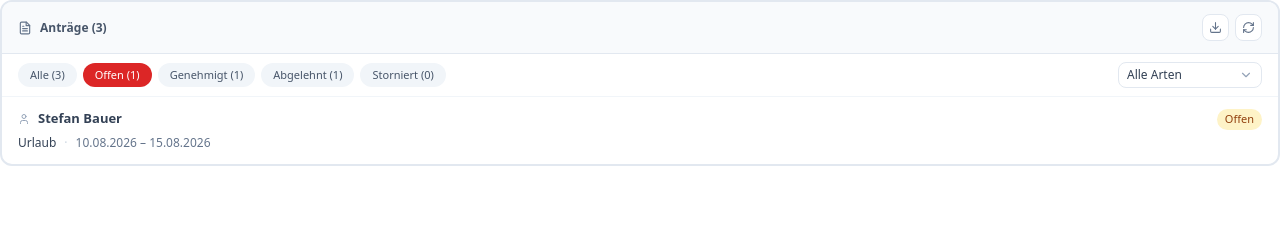
Test: LeaveRequestsList — status tabs › filters visible rows + tab counts when an Art is selected
Expected: the text "Stefan Bauer" is shown, [38,109,122,128]
Expected: the button "Alle (3)" is shown, [18,63,77,87]
# Filter to Krankenstand
Click the button with aria-label "Art filtern". click: (1190, 75)
box: [1118,62,1262,88]
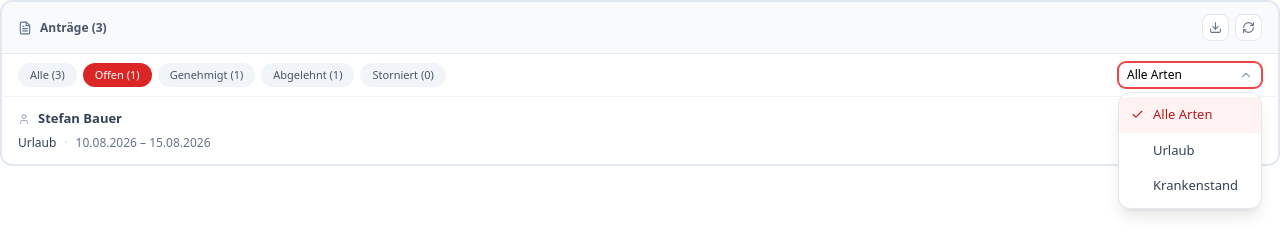
Click the option "Krankenstand". click: (1190, 186)
box: [1119,168,1261,204]
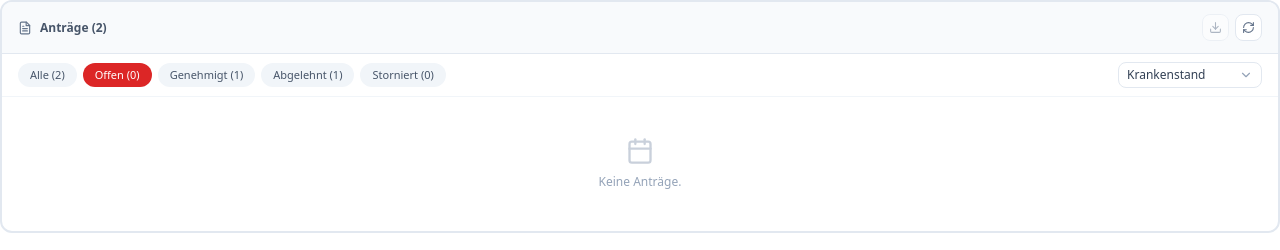
Now the button "Alle (2)" is shown, box [18,63,77,87]
Now the button "Offen (0)" is shown, box [83,63,152,87]
Now the text "Keine Anträge." is shown, box [599,173,681,190]
# Switch to Genehmigt to see Mario's Krankenstand
Click the button "Genehmigt (1)". click: (207, 75)
box: [158,63,255,87]
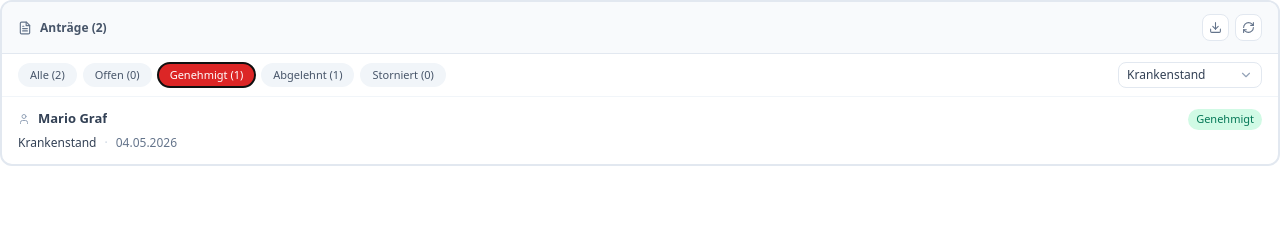
Expected: the text "Stefan Bauer" is not shown
Now the text "Mario Graf" is shown, box [38,109,107,128]
